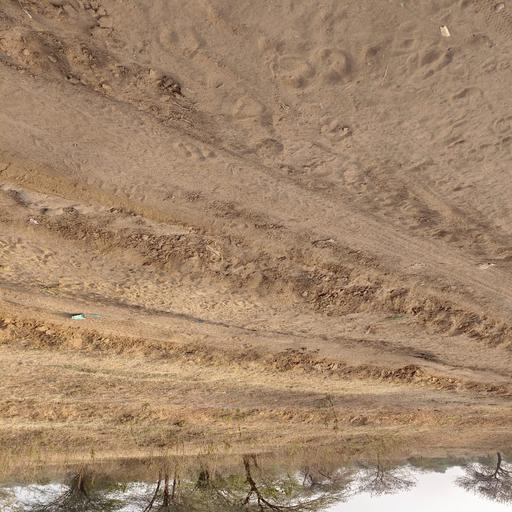vehicle_track: (0, 60, 512, 325), (0, 276, 512, 384)
